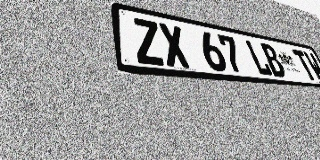6: (197, 30, 229, 72)
7: (216, 34, 247, 74)
B: (259, 42, 288, 78)
L: (244, 39, 274, 76)
T: (291, 49, 318, 81)
W: (302, 51, 320, 82)
X: (157, 22, 192, 68)
Z: (131, 17, 166, 66)
